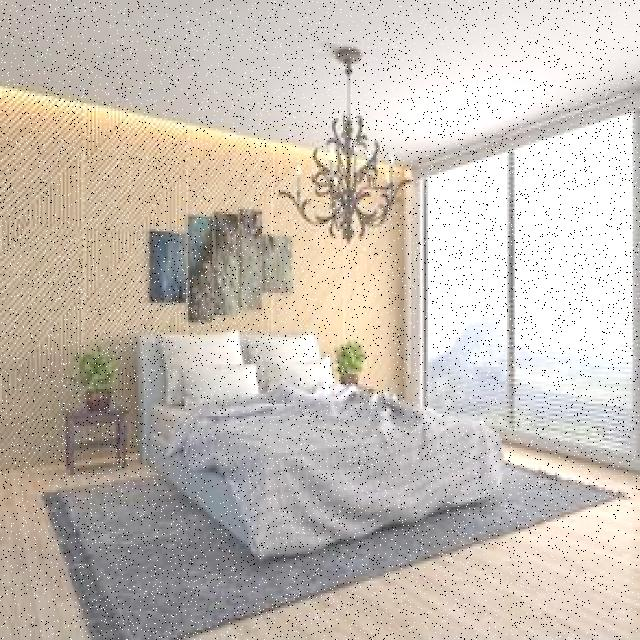bed: (152, 326, 501, 531)
